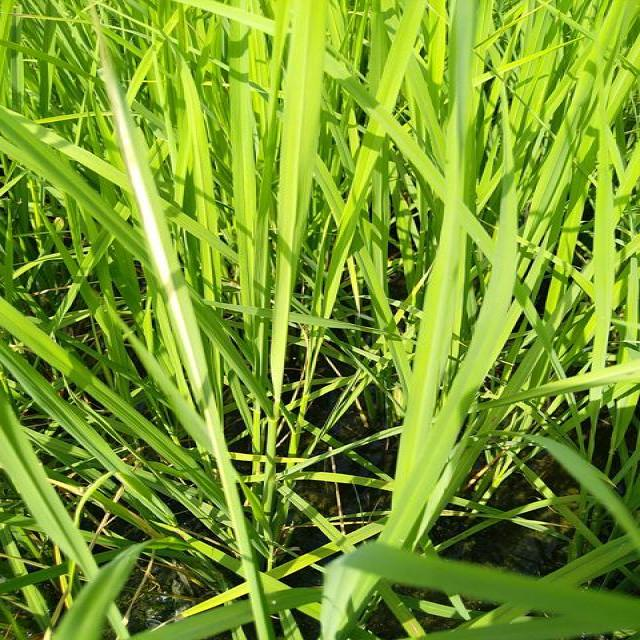Leaf Blight: (100, 37, 273, 639)
